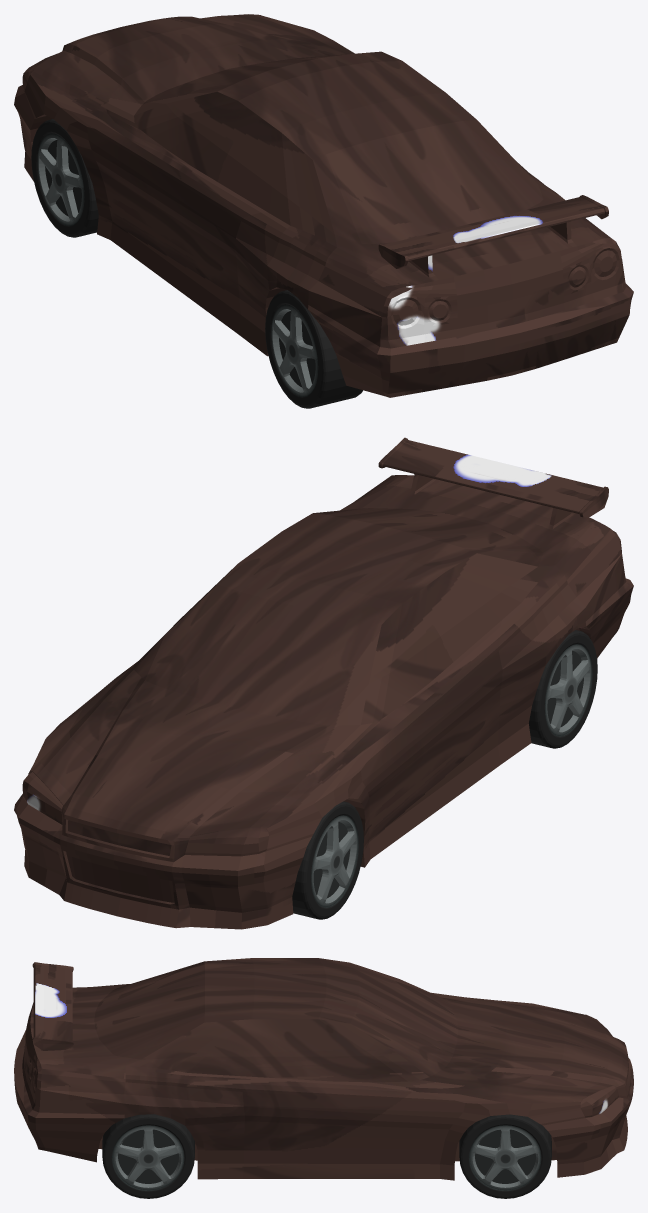
Rendered from BaysideBlue-R34-GTR.fbx.
3 renders of one model, top to bottom at view 1: azimuth 30°, elevation 25°; view 2: azimuth 150°, elevation 25°; view 3: azimuth 270°, elevation 25°, orthographic. The views are drawn at different scales.
Parts seen in each view (by area): view 1: R34-GTR Body, BackLeftWheel, FrontLeftWheel; view 2: R34-GTR Body, FrontLeftWheel, BackLeftWheel; view 3: R34-GTR Body, BackRightWheel, FrontRightWheel.
Part boxes in pixels (bbox=[...]): R34-GTR Body: bbox=[14, 14, 633, 397]; BackLeftWheel: bbox=[265, 290, 362, 408]; FrontLeftWheel: bbox=[31, 119, 98, 237]; R34-GTR Body: bbox=[14, 437, 633, 929]; FrontLeftWheel: bbox=[292, 801, 363, 919]; BackLeftWheel: bbox=[528, 630, 597, 748]; R34-GTR Body: bbox=[14, 958, 633, 1180]; BackRightWheel: bbox=[102, 1114, 194, 1198]; FrontRightWheel: bbox=[459, 1114, 551, 1198].
Bounding box in the file's own units: 190 × 474 × 138.
